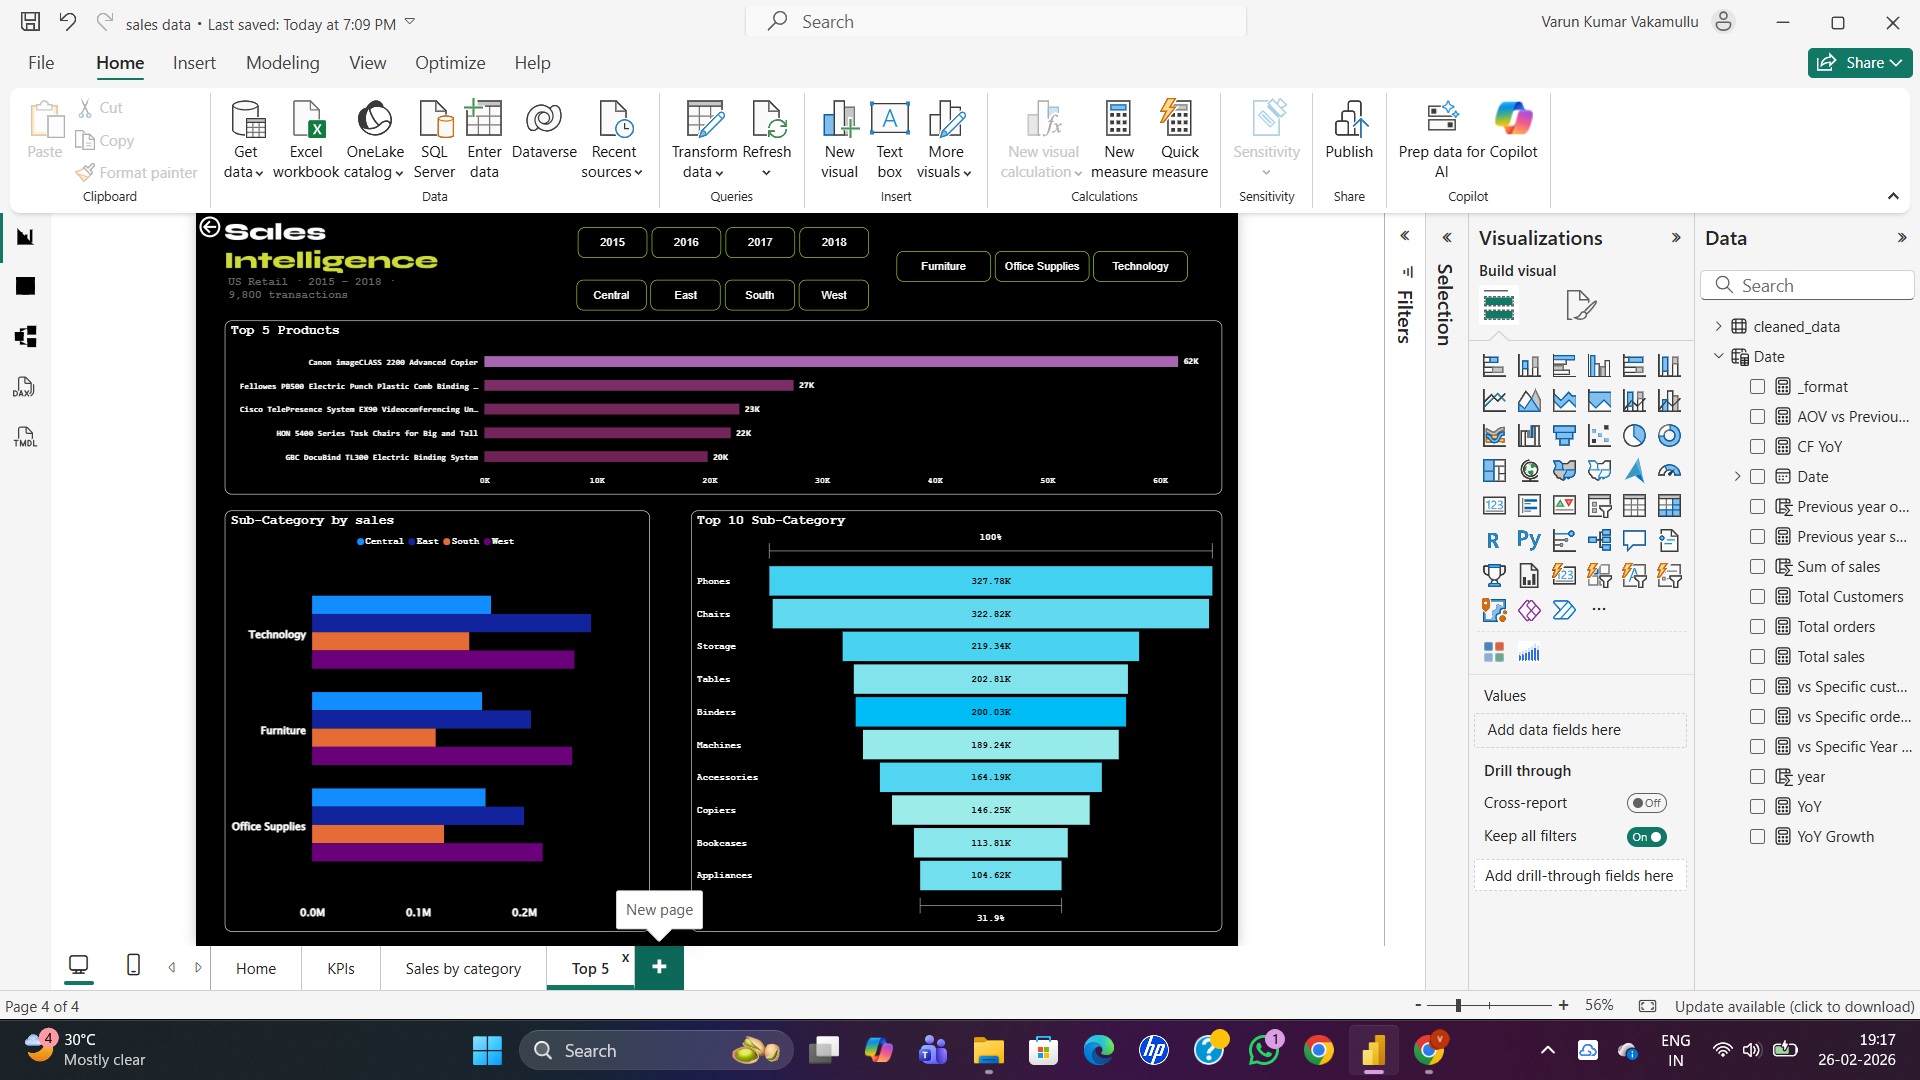

What the dashboard file says about the page in this screenshot:
{"tool":"powerbi","page":{"name":"Top 5","canvas":[1500,1056],"ordinal":3},"visuals":[{"type":"clusteredBarChart","title":"Top 5 Products","fields":{"Y":["Date.Total sales"],"Category":["cleaned_data.Product Name"]},"box":[41.4,154.8,1436.1,250.1],"z":0},{"type":"ChicletSlicer1448559807354","fields":{"Category":["Date.year"]},"box":[541.7,12.6,435.5,70.2],"z":1000},{"type":"ChicletSlicer1448559807354","fields":{"Category":["cleaned_data.Region"]},"box":[539.9,88.2,437.3,84.6],"z":2000},{"type":"image","box":[31.9,0,320.2,96.9],"z":3000},{"type":"textbox","box":[40.5,84.7,292,88.3],"z":4000},{"type":"funnel","title":"Top 10 Sub-Category","fields":{"Category":["cleaned_data.Sub-Category"],"Y":["Date.Total sales"]},"box":[712.6,428.3,764.8,606.5],"z":5000},{"type":"clusteredBarChart","title":"Sub-Category by sales","fields":{"Category":["cleaned_data.Category"],"Series":["cleaned_data.Region"],"Y":["Sum(cleaned_data.Sales)"]},"box":[41.4,428.3,611.9,606.5],"z":6000},{"type":"ChicletSlicer1448559807354","fields":{"Category":["cleaned_data.Category"]},"box":[1000.6,46.8,435.5,70.2],"z":7000},{"type":"actionButton","box":[0,0,100,40],"z":7001}]}

Visuals, with their boxes on the page's 1500x1056 design canvas (x1, y1, x2, y2). These are canvas units, not pixel positions in the 1920x1080 screenshot, which may show the page scaled, cropped or inside an application window:
"Top 5 Products" clusteredBarChart: box=[41, 155, 1478, 405]
ChicletSlicer1448559807354 - Date.year: box=[542, 13, 977, 83]
ChicletSlicer1448559807354 - cleaned_data.Region: box=[540, 88, 977, 173]
image: box=[32, 0, 352, 97]
textbox: box=[40, 85, 332, 173]
"Top 10 Sub-Category" funnel: box=[713, 428, 1477, 1035]
"Sub-Category by sales" clusteredBarChart: box=[41, 428, 653, 1035]
ChicletSlicer1448559807354 - cleaned_data.Category: box=[1001, 47, 1436, 117]
actionButton: box=[0, 0, 100, 40]
